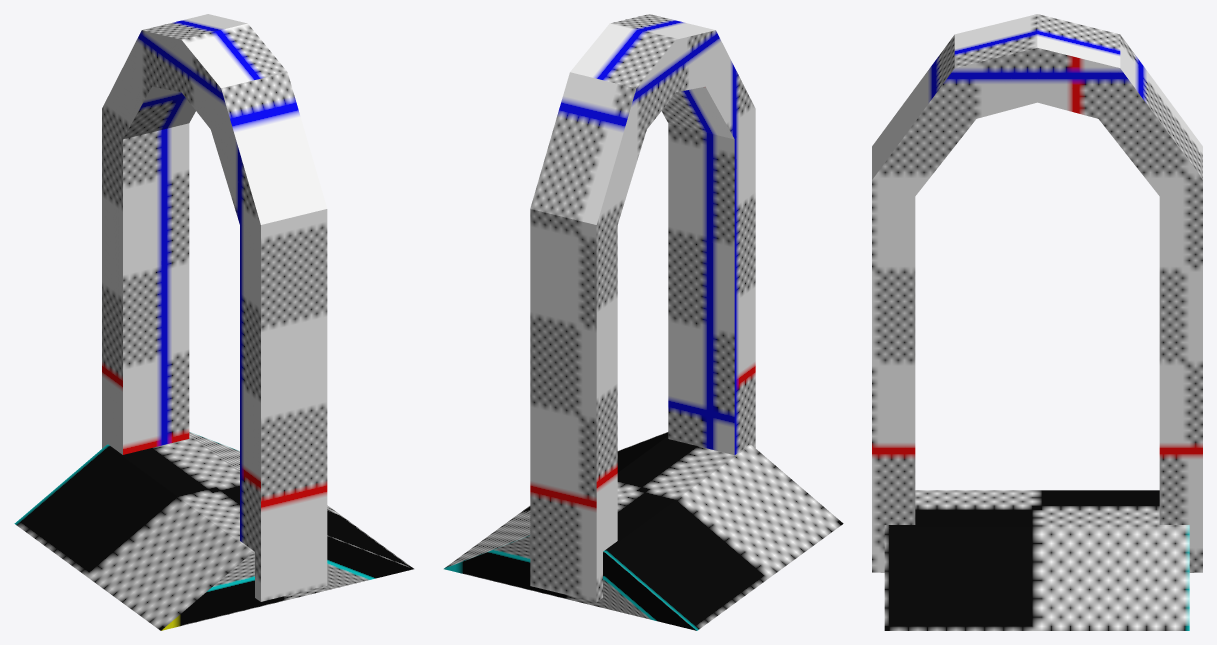
Rendered from door_frame.obj.
3 views of the same model, side by side, from view 1: azimuth 30°, elevation 25°; view 2: azimuth 150°, elevation 25°; view 3: azimuth 270°, elevation 25° (orthographic). The views are drawn at different scales.
Visible parts, largest first — view 1: Cube.005; view 2: Cube.005; view 3: Cube.005.
Boxes of the visible parts, x1,y1,x2,y2 form: Cube.005: (14, 14, 413, 630); Cube.005: (444, 14, 843, 630); Cube.005: (872, 14, 1202, 630).
Bounding box in the file's own units: 2 × 3.88 × 2.17.
